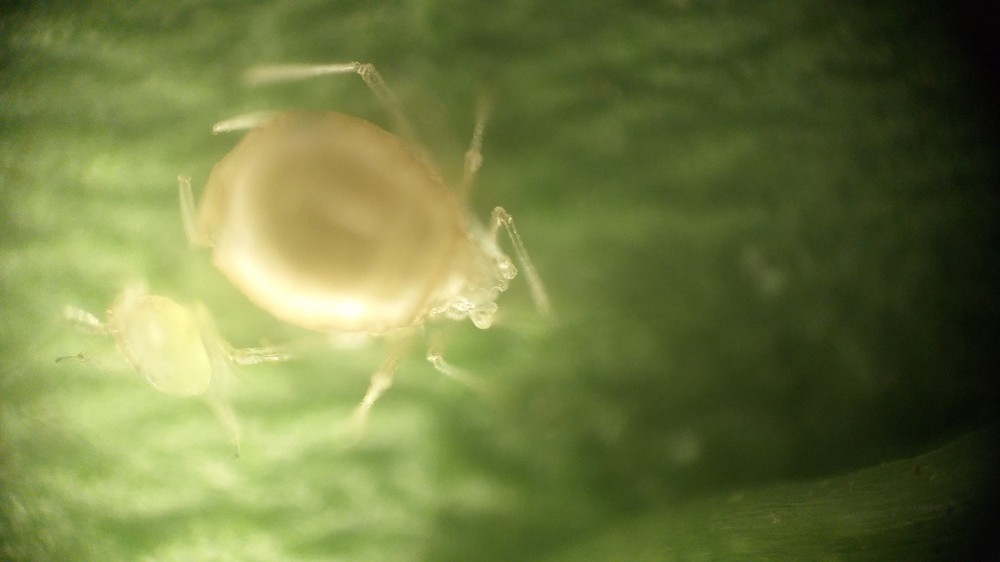Pulgon: (168, 45, 583, 462)
